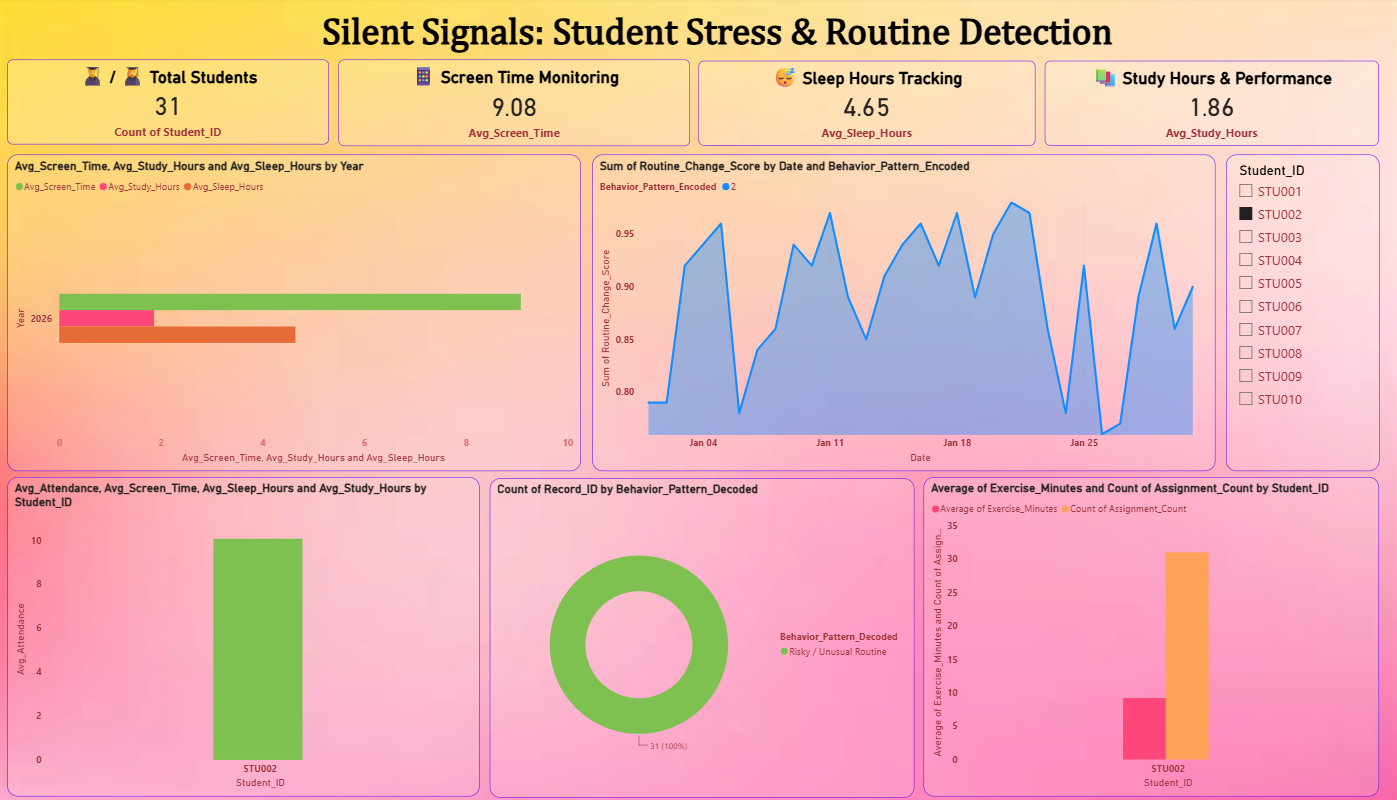

This screenshot's page, from the dashboard's own definition file:
{"tool":"powerbi","page":{"name":"Page 1","canvas":[2000,1150],"ordinal":0},"visuals":[{"type":"donutChart","fields":{"Category":["Silent_Signals_Cleaned_10Students.Behavior_Pattern_Decoded"],"Y":["CountNonNull(Silent_Signals_Cleaned_10Students.Record_ID)"]},"box":[702,684,604,454],"z":0},{"type":"clusteredBarChart","fields":{"Category":["Silent_Signals_Cleaned_10Students.Date.Variation.Date Hierarchy.Year","Silent_Signals_Cleaned_10Students.Date.Variation.Date Hierarchy.Quarter","Silent_Signals_Cleaned_10Students.Date.Variation.Date Hierarchy.Month","Silent_Signals_Cleaned_10Students.Date.Variation.Date Hierarchy.Day"],"Y":["Silent_Signals_Cleaned_10Students.Avg_Screen_Time","Silent_Signals_Cleaned_10Students.Avg_Study_Hours","Silent_Signals_Cleaned_10Students.Avg_Sleep_Hours"]},"box":[16,224,816,450],"z":1000},{"type":"clusteredColumnChart","fields":{"Category":["Silent_Signals_Cleaned_10Students.Student_ID"],"Y":["Avg(Silent_Signals_Cleaned_10Students.Exercise_Minutes)","CountNonNull(Silent_Signals_Cleaned_10Students.Assignment_Count)"]},"box":[1320,682,648,454],"z":2000},{"type":"clusteredColumnChart","fields":{"Category":["Silent_Signals_Cleaned_10Students.Student_ID"],"Y":["Silent_Signals_Cleaned_10Students.Avg_Attendance"]},"box":[16,682,672,454],"z":3000},{"type":"stackedAreaChart","fields":{"Y":["Sum(Silent_Signals_Cleaned_10Students.Routine_Change_Score)"],"Series":["Silent_Signals_Cleaned_10Students.Behavior_Pattern_Encoded"],"Category":["Silent_Signals_Cleaned_10Students.Date"]},"box":[848,224,886,450],"z":4000},{"type":"slicer","fields":{"Values":["Silent_Signals_Cleaned_10Students.Student_ID"]},"box":[1750,224,218,450],"z":5000},{"type":"card","title":"👨🎓 / 👩🎓 Total Students","fields":{"Values":["CountNonNull(Silent_Signals_Cleaned_10Students.Student_ID)"]},"box":[15.4,88.5,457.7,121.2],"z":7000},{"type":"card","title":"📱 Screen Time Monitoring","fields":{"Values":["Silent_Signals_Cleaned_10Students.Avg_Screen_Time"]},"box":[486.5,88.5,500,123.1],"z":8000},{"type":"card","title":"😴 Sleep Hours Tracking","fields":{"Values":["Silent_Signals_Cleaned_10Students.Avg_Sleep_Hours"]},"box":[1000,90.4,478.8,121.2],"z":9000},{"type":"card","title":"📚 Study Hours & Performance","fields":{"Values":["Silent_Signals_Cleaned_10Students.Avg_Study_Hours"]},"box":[1492.3,90.4,475,121.2],"z":10000},{"type":"textbox","box":[424,16,1206,78],"z":11000}]}

Visuals, with their boxes in screenshot pixels (x1, y1, x2, y2), scaled from the page's 2000x1150 canvas onto the 1397x800 screenshot:
donutChart - Silent_Signals_Cleaned_10Students.Behavior_Pattern_Decoded x CountNonNull(Silent_Signals_Cleaned_10Students.Record_ID): bbox=[490, 476, 912, 792]
clusteredBarChart - Silent_Signals_Cleaned_10Students.Date.Variation.Date Hierarchy.Year x Silent_Signals_Cleaned_10Students.Date.Variation.Date Hierarchy.Quarter: bbox=[11, 156, 581, 469]
clusteredColumnChart - Silent_Signals_Cleaned_10Students.Student_ID x Avg(Silent_Signals_Cleaned_10Students.Exercise_Minutes): bbox=[922, 474, 1375, 790]
clusteredColumnChart - Silent_Signals_Cleaned_10Students.Student_ID x Silent_Signals_Cleaned_10Students.Avg_Attendance: bbox=[11, 474, 481, 790]
stackedAreaChart - Sum(Silent_Signals_Cleaned_10Students.Routine_Change_Score) x Silent_Signals_Cleaned_10Students.Behavior_Pattern_Encoded: bbox=[592, 156, 1211, 469]
slicer - Silent_Signals_Cleaned_10Students.Student_ID: bbox=[1222, 156, 1375, 469]
"👨🎓 / 👩🎓 Total Students" card: bbox=[11, 62, 330, 146]
"📱 Screen Time Monitoring" card: bbox=[340, 62, 689, 147]
"😴 Sleep Hours Tracking" card: bbox=[698, 63, 1033, 147]
"📚 Study Hours & Performance" card: bbox=[1042, 63, 1374, 147]
textbox: bbox=[296, 11, 1139, 65]
